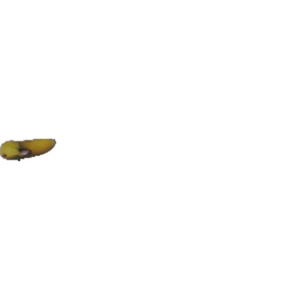banana: (1, 133, 57, 163)
